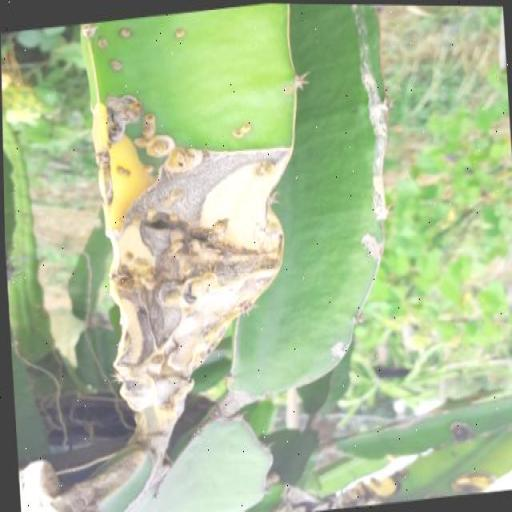stemcanker: (96, 28, 143, 78), (168, 25, 190, 55)
